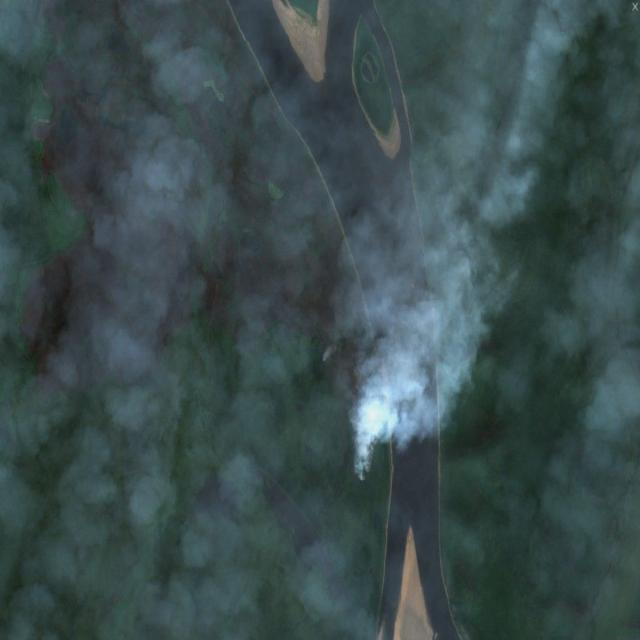fire: (344, 386, 391, 481)
